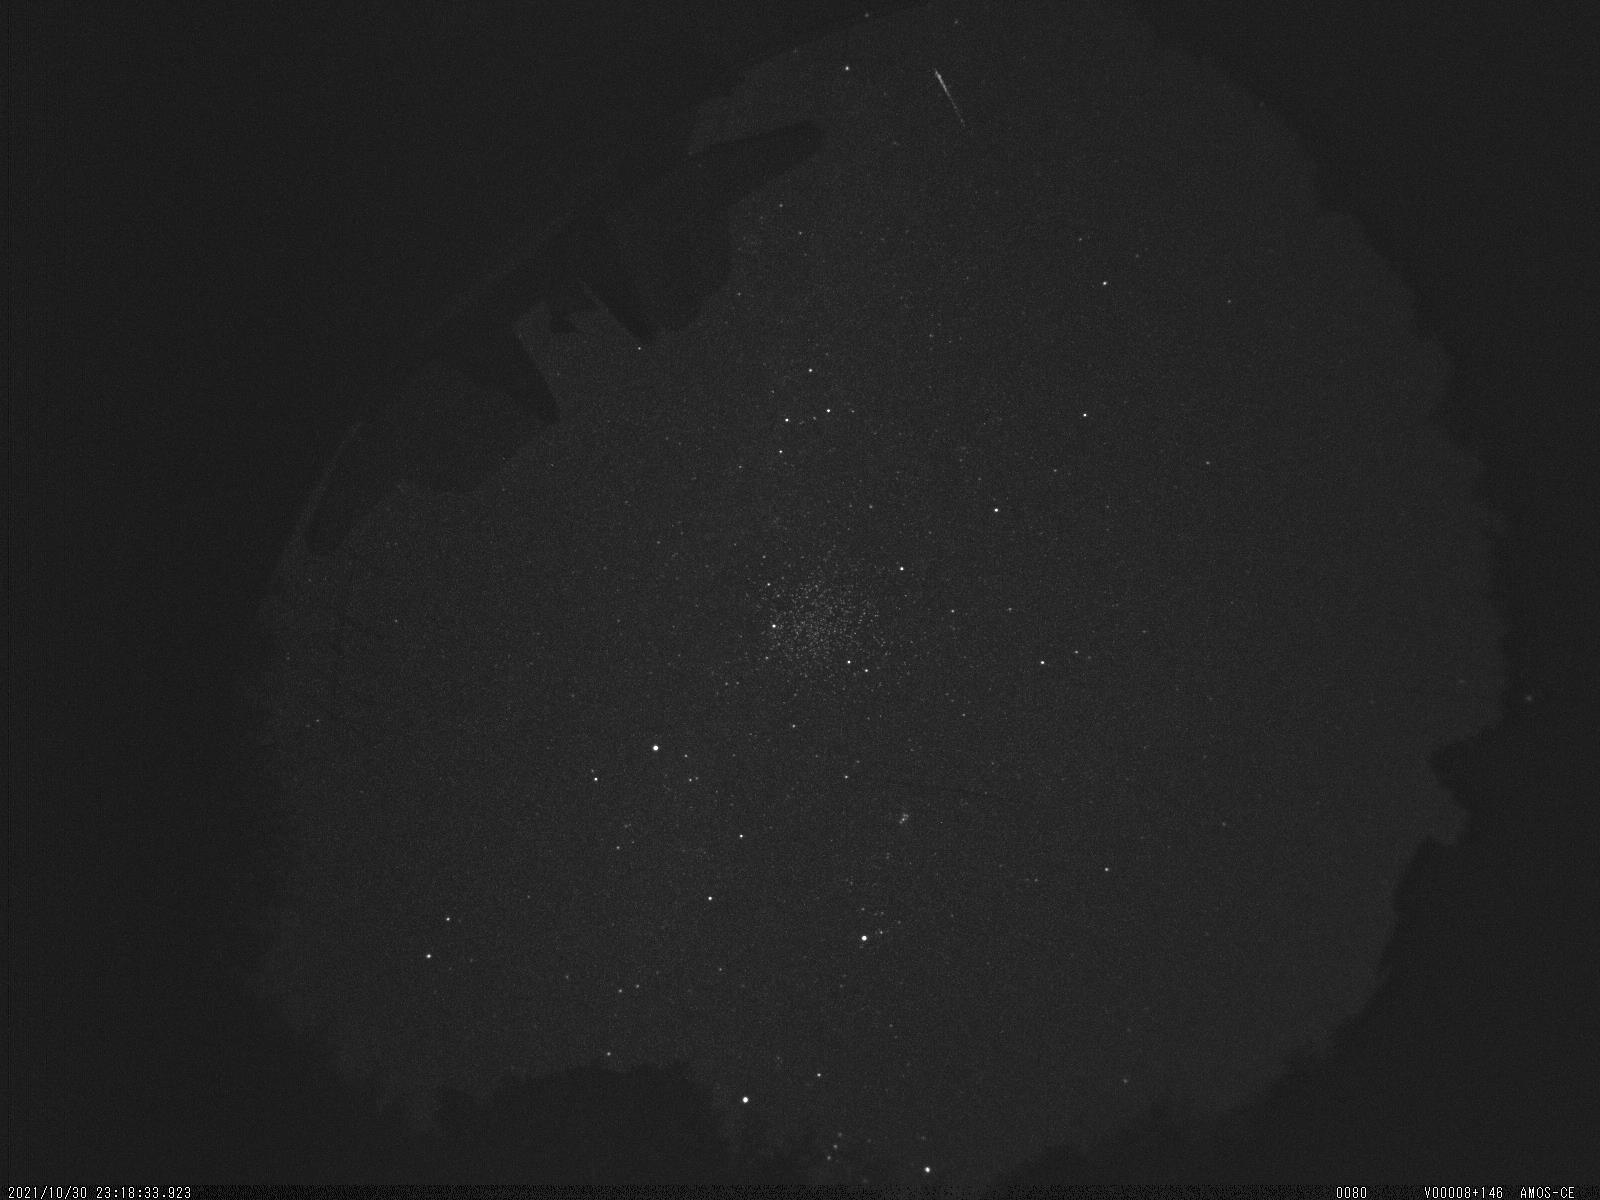Meteor: (929, 64, 974, 141)
